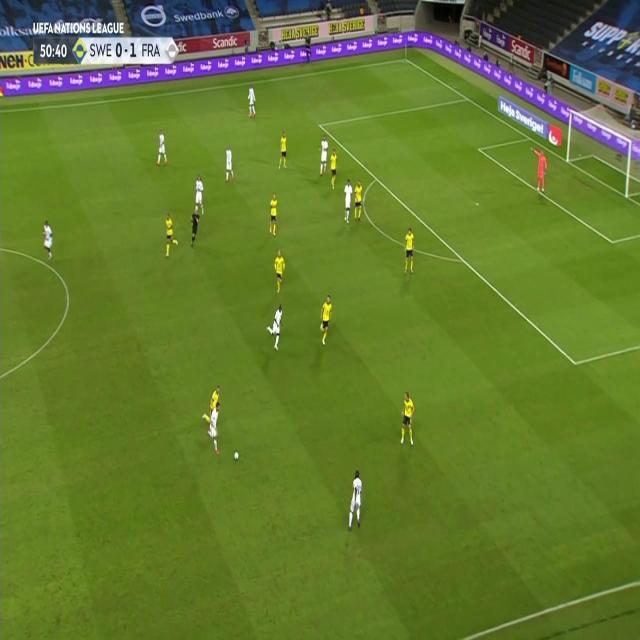ball: (233, 449, 240, 460)
player: (346, 468, 364, 532), (398, 391, 416, 449), (318, 293, 334, 346), (266, 305, 284, 351), (208, 401, 223, 456), (163, 212, 179, 258), (202, 382, 220, 422), (403, 225, 417, 274), (534, 148, 548, 194), (272, 249, 286, 295), (41, 218, 55, 260), (268, 190, 279, 237), (190, 204, 202, 247), (193, 173, 205, 215), (342, 178, 353, 223), (354, 178, 364, 222), (329, 148, 339, 190), (156, 130, 168, 165), (318, 137, 329, 175), (278, 130, 288, 170), (224, 145, 234, 182), (247, 85, 257, 116)
